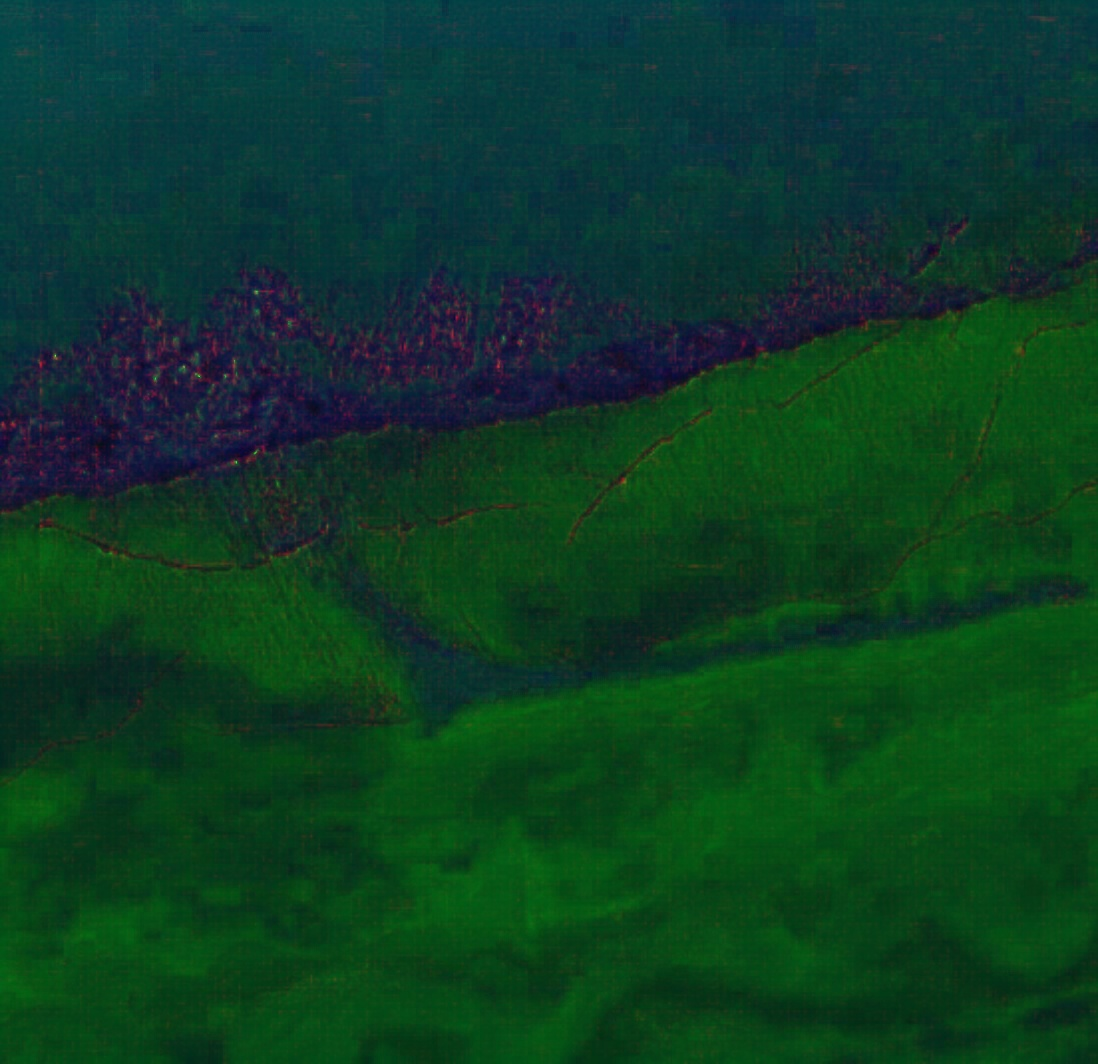rip_current: (182, 362, 357, 559)
